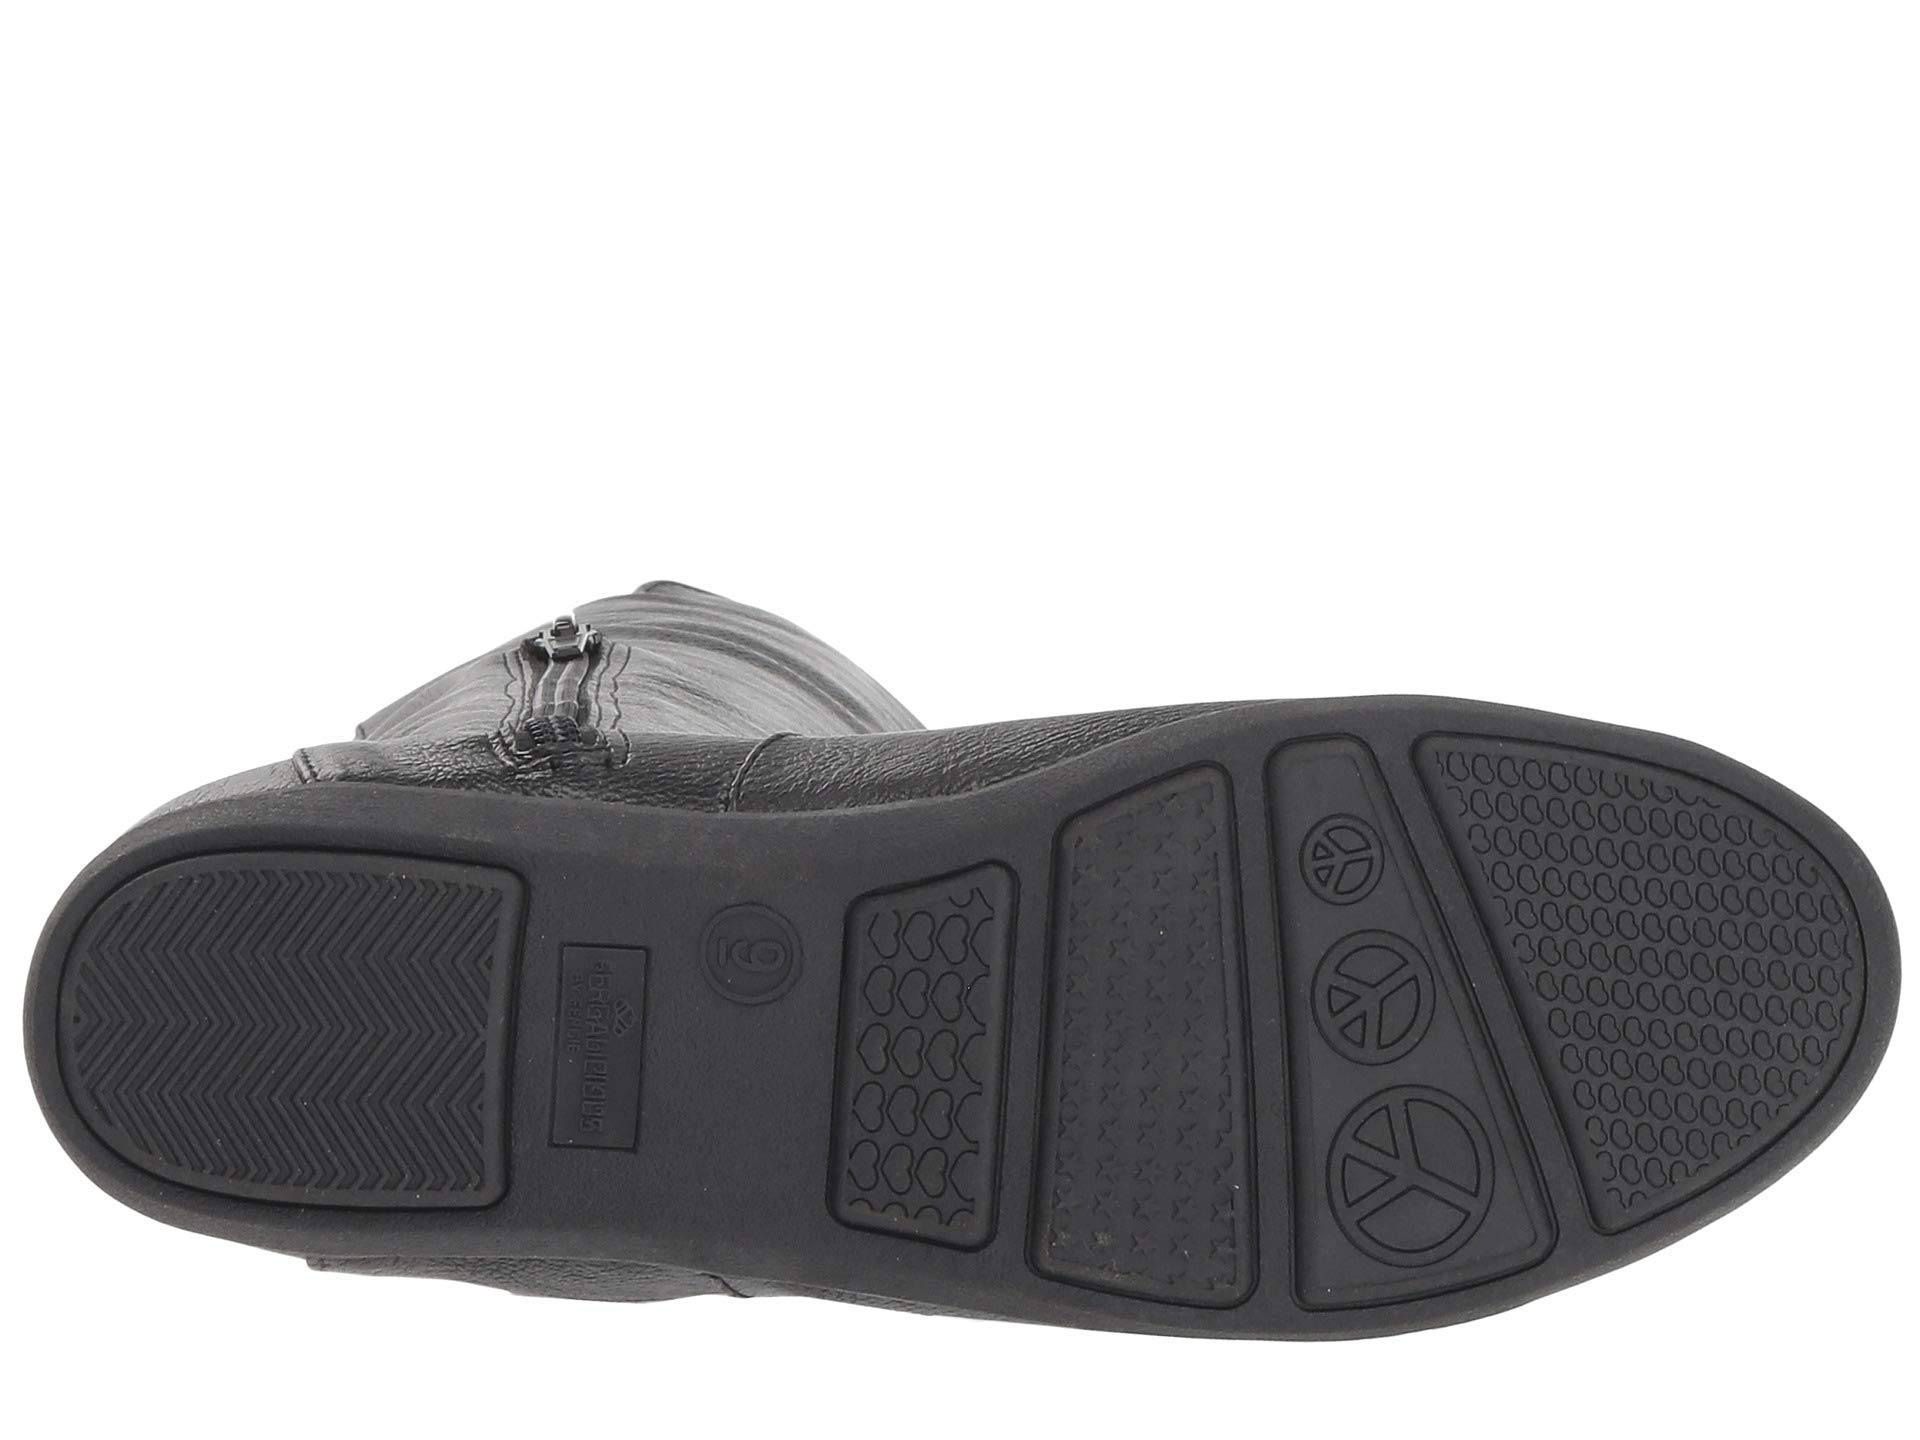chevron: (171, 898, 438, 1178)
circle: (1300, 1088, 1539, 1280), (658, 852, 827, 1012), (1277, 923, 1451, 1071), (1243, 768, 1394, 912)
text: (658, 852, 827, 1012)
triangle: (1300, 1088, 1539, 1280), (1277, 923, 1451, 1071), (1243, 768, 1394, 912)
